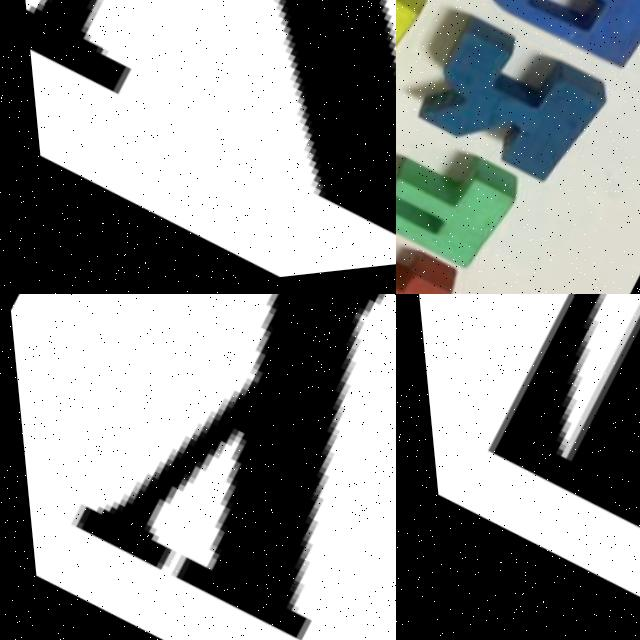F: (396, 123, 509, 291)
K: (396, 8, 605, 209)
N: (0, 0, 396, 294)
P: (464, 0, 640, 93)
T: (432, 294, 640, 595)
X: (16, 294, 396, 640)
